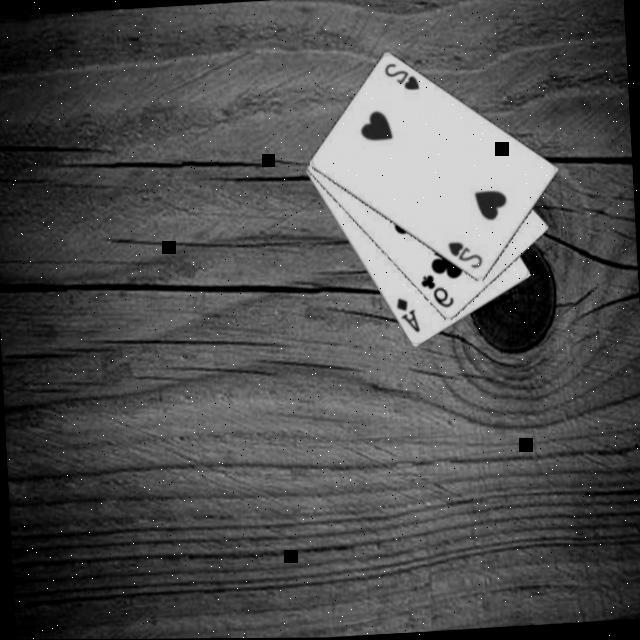2H: (382, 59, 425, 95), (447, 237, 488, 273)
6C: (419, 270, 459, 312)
AD: (394, 294, 424, 336)
